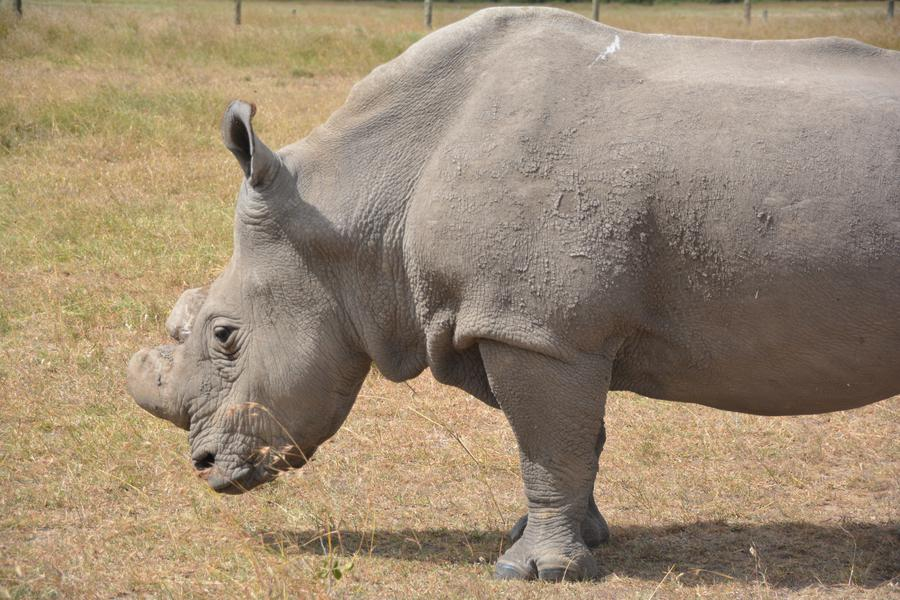rhino: (145, 24, 874, 551)
